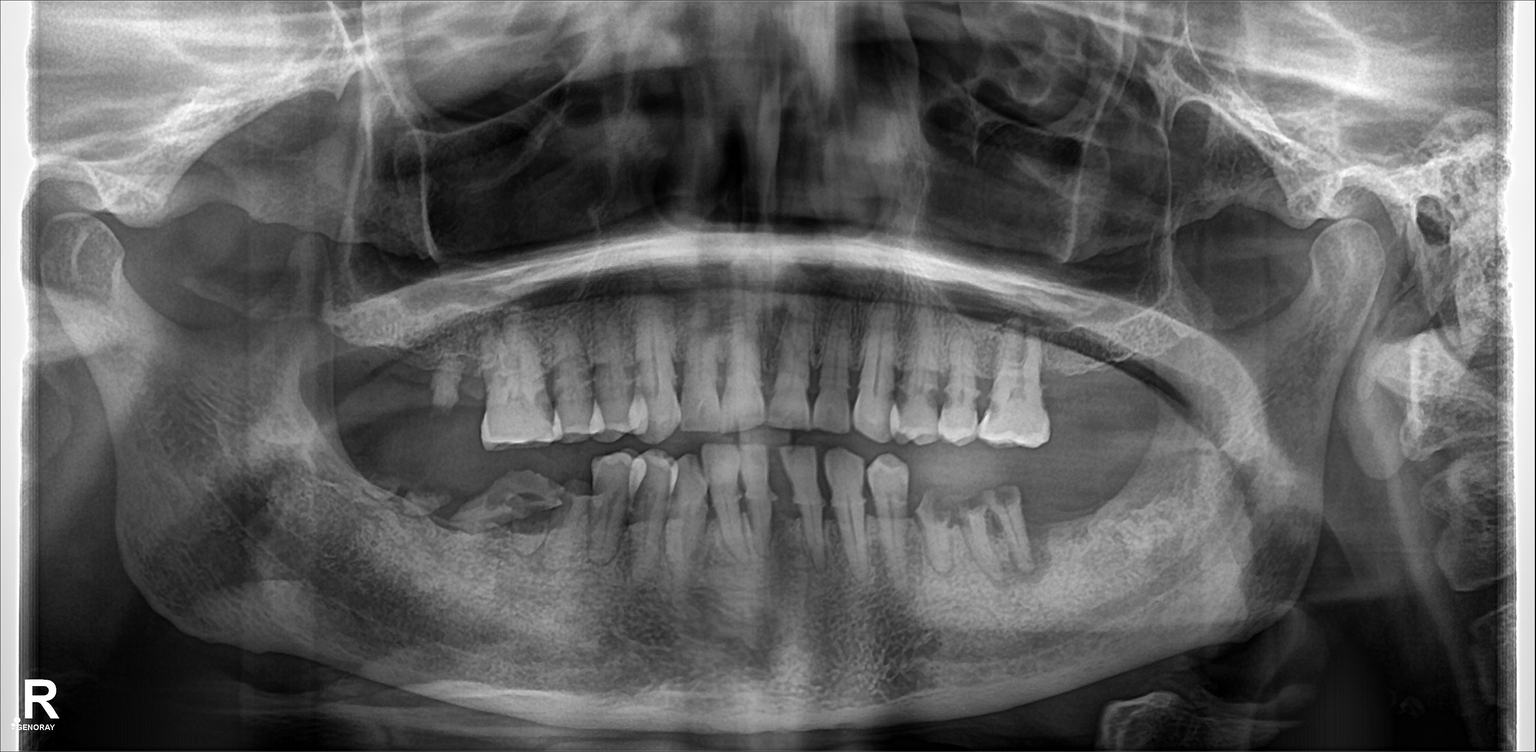Dental Caries: (507, 488, 547, 520), (970, 378, 1004, 414), (929, 365, 951, 413)
Missing Tooth: (1140, 329, 1186, 447), (367, 333, 420, 432), (1097, 339, 1144, 450), (1121, 477, 1171, 581), (330, 333, 372, 451), (1045, 339, 1092, 439), (348, 445, 389, 542), (1082, 471, 1119, 572), (460, 331, 492, 436), (1047, 471, 1080, 572)
Retained Root: (434, 460, 565, 542), (905, 462, 958, 588), (993, 467, 1037, 585), (940, 484, 991, 582), (399, 452, 444, 539), (425, 342, 457, 434)
